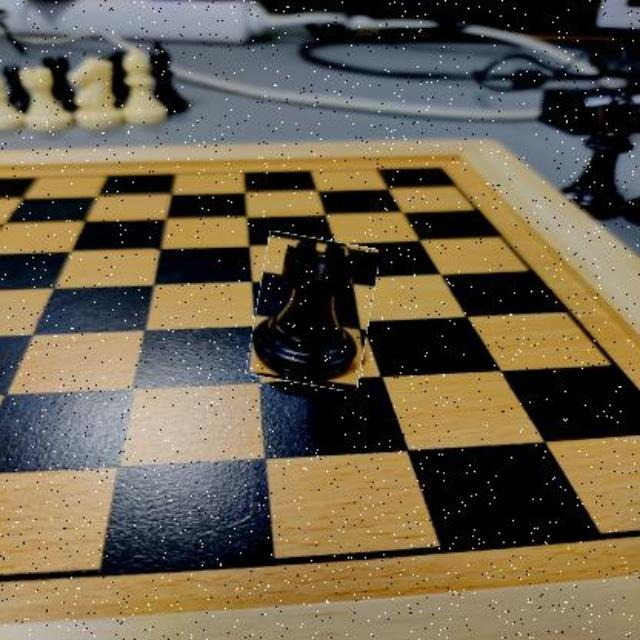black-rook: (251, 235, 375, 388)
